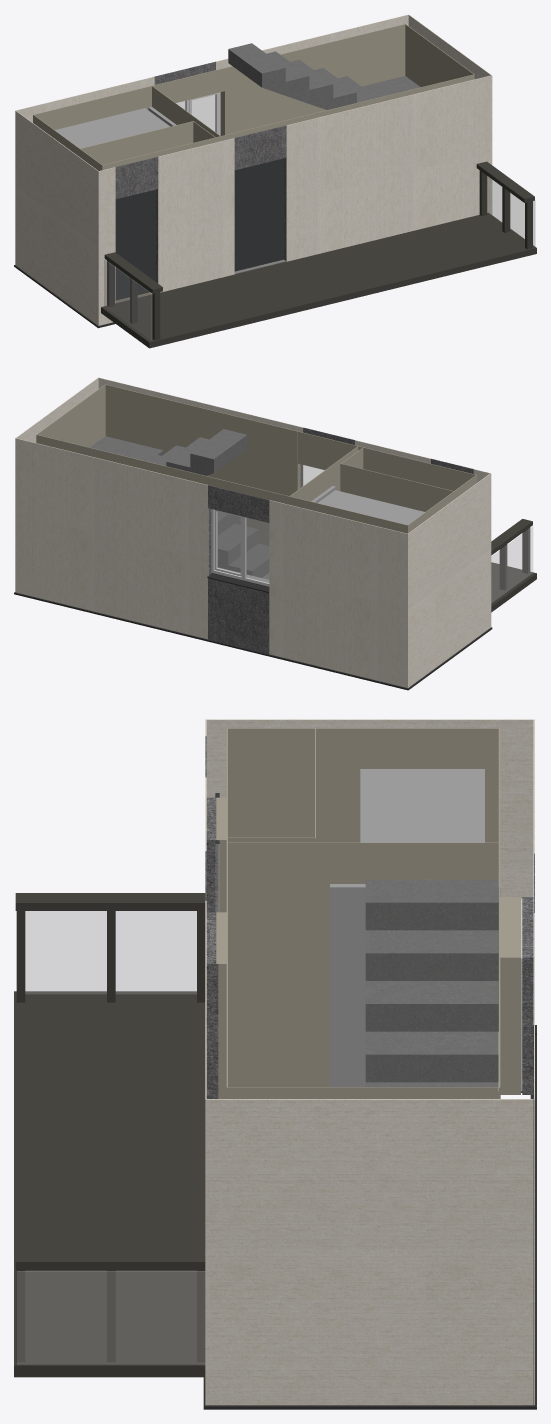
File: Trepikoda_2K.glb
The picture shows the model from 3 angles, top to bottom: view 1: azimuth 30°, elevation 25°; view 2: azimuth 150°, elevation 25°; view 3: azimuth 270°, elevation 25°; orthographic projection. The views are drawn at different scales.
Parts seen in each view (by area): view 1: Kiudtsementplaat_055, Box077, Kiudtsementplaat_059, Uks_002 (×2), UTypeStair002, Box050 (×2), Box099, Box080, Box078 (×2), Aken_Tava_139; view 2: Kiudtsementplaat_055, Kiudtsementplaat_059, UTypeStair002, Aken_Tava_139, Box050, Box099, Box077, Veeplekk_elementide_vahel_068, Box080, Box078; view 3: Kiudtsementplaat_055, Box077, Kiudtsementplaat_059, Box050 (×2), UTypeStair002, Box099, Box098, Box078 (×2), Box080, Veeplekk_elementide_vahel_067, Veeplekk_elementide_vahel_068.
Boxes of the visible parts, x1=… form: Kiudtsementplaat_055: x1=15, y1=14, x2=492, y2=325; Box077: x1=101, y1=212, x2=536, y2=348; Kiudtsementplaat_059: x1=33, y1=24, x2=474, y2=302; Uks_002 (×2): x1=115, y1=158, x2=284, y2=300; UTypeStair002: x1=228, y1=43, x2=420, y2=109; Box050 (×2): x1=104, y1=177, x2=535, y2=340; Box099: x1=55, y1=108, x2=169, y2=148; Box080: x1=107, y1=170, x2=532, y2=340; Box078 (×2): x1=104, y1=161, x2=534, y2=293; Aken_Tava_139: x1=176, y1=92, x2=220, y2=135; Kiudtsementplaat_055: x1=15, y1=377, x2=491, y2=687; Kiudtsementplaat_059: x1=36, y1=384, x2=476, y2=545; UTypeStair002: x1=90, y1=429, x2=268, y2=577; Aken_Tava_139: x1=207, y1=509, x2=269, y2=592; Box050: x1=491, y1=526, x2=532, y2=602; Box099: x1=318, y1=490, x2=424, y2=524; Box077: x1=491, y1=562, x2=536, y2=612; Veeplekk_elementide_vahel_068: x1=14, y1=592, x2=408, y2=690; Box080: x1=499, y1=527, x2=530, y2=590; Box078: x1=491, y1=519, x2=532, y2=555; Kiudtsementplaat_055: x1=205, y1=719, x2=534, y2=1405; Box077: x1=14, y1=991, x2=205, y2=1377; Kiudtsementplaat_059: x1=216, y1=728, x2=520, y2=1098; Box050 (×2): x1=17, y1=911, x2=204, y2=1364; UTypeStair002: x1=365, y1=879, x2=498, y2=1087; Box099: x1=360, y1=769, x2=484, y2=842; Box098: x1=330, y1=880, x2=500, y2=1098; Box078 (×2): x1=15, y1=893, x2=205, y2=1269; Box080: x1=16, y1=911, x2=205, y2=1362; Veeplekk_elementide_vahel_067: x1=203, y1=1405, x2=536, y2=1409; Veeplekk_elementide_vahel_068: x1=530, y1=1025, x2=536, y2=1406.
Size of the model in its own units: 8.35 by 3.53 by 4.83.
12 materials, 4 textured.
